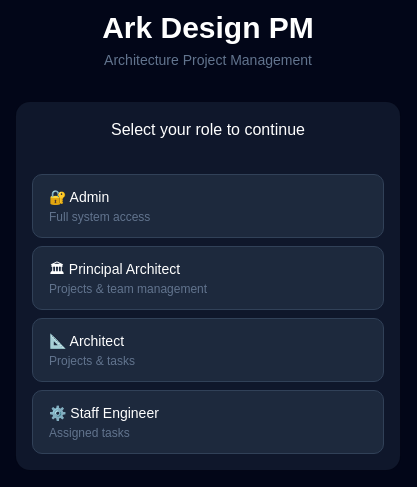
Test: shows error message when signIn fails
Click the text "🔐 Admin": [79, 197] box [49,189,109,205]
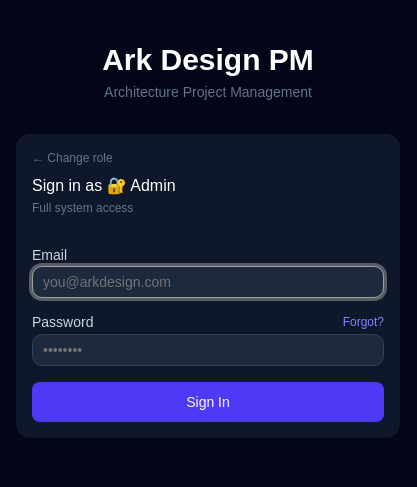
In the field labelled "Email": [208, 282] box [32,266,384,298], type "bad@ark.com"
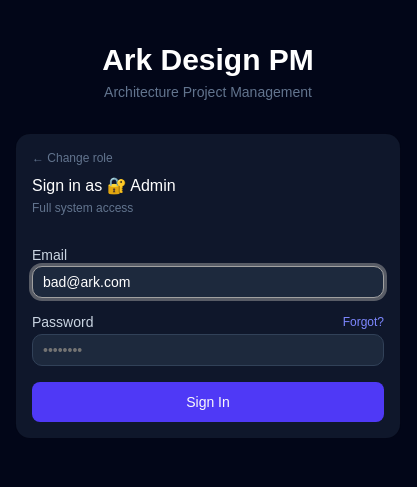
In the password field labelled "Password": [208, 350] box [32,334,384,366], type "wrong"
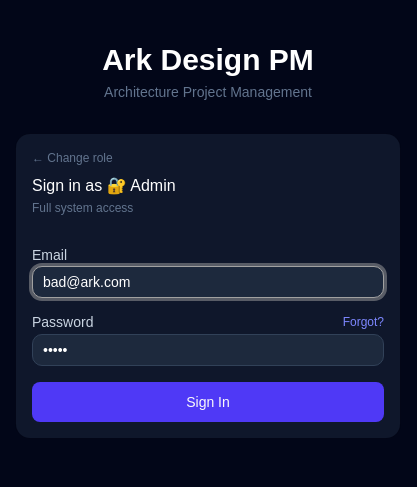
Click the button "Sign In": [208, 402] box [32,382,384,422]
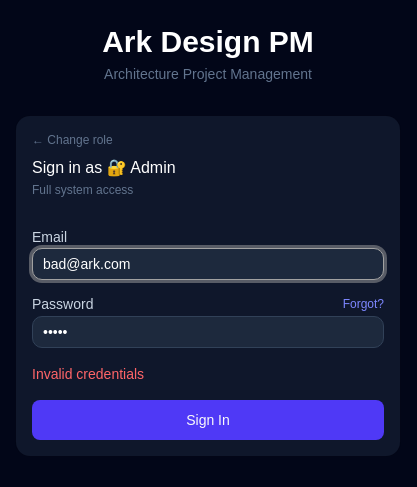
Result: the text "Invalid credentials" is shown at [32,366,144,382]
